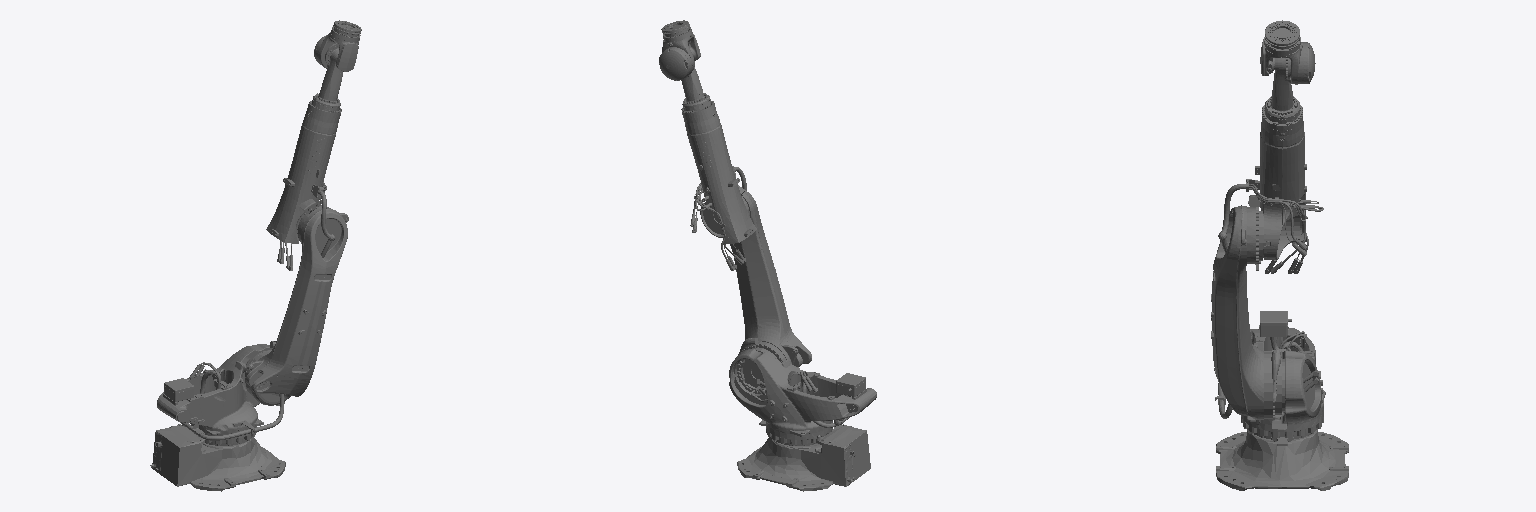
The robot description file, URDF, robot "kuka_kr_250":
<?xml version="1.0" ?>
<!-- =================================================================================== -->
<!-- |    This document was autogenerated by xacro from indy7.xacro                    | -->
<!-- |    EDITING THIS FILE BY HAND IS NOT RECOMMENDED                                 | -->
<!-- =================================================================================== -->
<robot name="kuka_kr_250" xmlns:xacro="http://ros.org/wiki/xacro">
  <material name="metal_grey"> <color rgba="0.5 0.5 0.5 1"/> </material>
  <link name="world"/>
  <link name="base_link">
    <visual>
      <origin rpy="0 0 0" xyz="0 0 0"/>
      <geometry>
        <mesh filename="meshes/stl/kuka_kr_250_base_link.stl"/>
      </geometry>
      <material name="metal_grey"/>
    </visual>
    <collision>
      <origin rpy="0 0 0" xyz="0 0 0"/>
      <geometry>
        <mesh filename="meshes/stl/kuka_kr_250_base_link.stl"/>
      </geometry>
    </collision>
    <inertial>
      <origin rpy="0 0 0" xyz="-0.115424 0.000323562 0.115133"/>
      <mass value="257.693"/>
      <inertia ixx="5.9791" iyy="13.1238" izz="16.0208" iyz="-0.00780437" ixz="1.37877" ixy="0.0327832"/>
    </inertial>
  </link>
  <link name="link1">
    <visual>
      <origin rpy="0 0 0" xyz="0 0 0"/>
      <geometry>
        <mesh filename="meshes/stl/kuka_kr_250_link1.stl"/>
      </geometry>
      <material name="metal_grey"/>
    </visual>
    <collision>
      <origin rpy="0 0 0" xyz="0 0 0"/>
      <geometry>
        <mesh filename="meshes/stl/kuka_kr_250_link1.stl"/>
      </geometry>
    </collision>
    <inertial>
      <origin rpy="0 0 0" xyz="-0.0299196 -0.0044684 -0.216798"/>
      <mass value="254.573"/>
      <inertia ixx="8.21089" iyy="15.5349" izz="13.9837" iyz="-0.23054" ixz=" 0.790915" ixy="1.29514"/>
    </inertial>
  </link>
  <link name="link2">
    <visual>
      <origin rpy="0 0 0" xyz="0 0 0"/>
      <geometry>
        <mesh filename="meshes/stl/kuka_kr_250_link2.stl"/>
      </geometry>
      <material name="metal_grey"/>
    </visual>
    <collision>
      <origin rpy="0 0 0" xyz="0 0 0"/>
      <geometry>
        <mesh filename="meshes/stl/kuka_kr_250_link2.stl"/>
      </geometry>
    </collision>
    <inertial>
      <origin rpy="0 0 0" xyz="0.449283 0.000936735 -0.222893"/>
      <mass value="331.528"/>
      <inertia ixx="5.60972" iyy="65.6326" izz="64.9414" iyz="-0.00657388" ixz=" 4.37003" ixy="0.180956"/>
    </inertial>
  </link>
  <link name="link3">
    <visual>
      <origin rpy="0 0 0" xyz="0 0 0"/>
      <geometry>
        <mesh filename="meshes/stl/kuka_kr_250_link3.stl"/>
      </geometry>
      <material name="metal_grey"/>
    </visual>
    <collision>
      <origin rpy="0 0 0" xyz="0 0 0"/>
      <geometry>
        <mesh filename="meshes/stl/kuka_kr_250_link3.stl"/>
      </geometry>
    </collision>
    <inertial>
      <origin rpy="0 0 0" xyz="0.375107 -0.113505 0.0869682"/>
      <mass value="172.325"/>
      <inertia ixx="1.66847" iyy="14.9789" izz="14.9091" iyz="0.0995061" ixz="-0.374194" ixy="0.0156184"/>
    </inertial>
  </link>
  <link name="link4">
    <visual>
      <origin rpy="0 0 0" xyz="0 0 0"/>
      <geometry>
        <mesh filename="meshes/stl/kuka_kr_250_link4.stl"/>
      </geometry>
      <material name="metal_grey"/>
    </visual>
    <collision>
      <origin rpy="0 0 0" xyz="0 0 0"/>
      <geometry>
        <mesh filename="meshes/stl/kuka_kr_250_link4.stl"/>
      </geometry>
    </collision>
    <inertial>
      <origin rpy="0 0 0" xyz="0.00449251 4.41483e-06 -0.174621"/>
      <mass value="18.8575"/>
      <inertia ixx="0.332037" iyy="0.33071" izz="0.0462583" iyz="-8.34095e-06" ixz="0.0151001" ixy="3.83858e-06"/>
    </inertial>
  </link>
  <link name="link5">
    <visual>
      <origin rpy="0 0 0" xyz="0 0 0"/>
      <geometry>
        <mesh filename="meshes/stl/kuka_kr_250_link5.stl"/>
      </geometry>
      <material name="metal_grey"/>
    </visual>
    <collision>
      <origin rpy="0 0 0" xyz="0 0 0"/>
      <geometry>
        <mesh filename="meshes/stl/kuka_kr_250_link5.stl"/>
      </geometry>
    </collision>
    <inertial>
      <origin rpy="0 0 0" xyz="0.0576934 2.24433e-05 -0.0126577"/>
      <mass value="37.375"/>
      <inertia ixx="0.367292" iyy="0.533284" izz="0.378389" iyz="-4.25692e-05" ixz="0.10984" ixy="-0.000112698"/>
    </inertial>
  </link>
  <link name="link6">
    <visual>
      <origin rpy="0 0 0" xyz="0 0 0"/>
      <geometry>
        <mesh filename="meshes/stl/kuka_kr_250_link6.stl"/>
      </geometry>
      <material name="metal_grey"/>
    </visual>
    <collision>
      <origin rpy="0 0 0" xyz="0 0 0"/>
      <geometry>
        <mesh filename="meshes/stl/kuka_kr_250_link6.stl"/>
      </geometry>
    </collision>
    <inertial>
      <origin rpy="0 0 0" xyz="4.57333e-05 -2.18023e-05 -0.0117932"/>
      <mass value="3.13638"/>
      <inertia ixx="0.00809075" iyy="0.00810687" izz="0.0156025" iyz="2.33201e-07" ixz="2.37544e-07" ixy="2.74403e-07"/>
    </inertial>
  </link>
  <link name="tcp">
    <collision>
      <geometry>
        <box size="0.01 0.01 0.01"/>
      </geometry>
      <origin rpy="0 0 0" xyz="0 0 0"/>
    </collision>
    <inertial>
      <mass value="0.001"/>
      <origin rpy="0 0 0" xyz="0.0 0.0 0.0"/>
      <inertia ixx="0.0" ixy="0.0" ixz="0.0" iyy="0.0" iyz="0.0" izz="0.0"/>
    </inertial>
  </link>


  <joint name="world_joint" type="fixed">
    <parent link="world"/>
    <child link="base_link"/>
    <origin rpy="0.0 0.0 0.0" xyz="0 0 0"/>
  </joint>
  <joint name="joint1" type="revolute">
    <parent link="base_link"/>     
    <child link="link1"/>  
    <origin rpy="3.14159265358 0.0 0.0" xyz="0.0 0.0 0.2356"/>
    <axis xyz="0 0 1"/>
    <limit effort=" 1000" lower="-3.2289" upper="3.2289" velocity="10"/>
  </joint>
  <joint name="joint2" type="revolute">
    <parent link="link1"/>  
    <child link="link2"/>  
    <origin rpy="1.57079632679 0.0 0.0" xyz="0.33 0.0 -0.4094"/>
    <axis xyz="0 0 1"/>
    <limit effort=" 1000" lower="-2.4435" upper="-0.0873" velocity="10"/>
  </joint>
  <joint name="joint3" type="revolute">
    <parent link="link2"/> 
    <child link="link3"/>    
    <origin rpy="0.0 0.0 0.0" xyz="1.15 0.0 -0.095"/>
    <axis xyz="0 0 1"/>
    <limit effort=" 1000" lower="-2.0944" upper="2.9322" velocity="10"/>
  </joint>
  <joint name="joint4" type="revolute">
    <parent link="link3"/>  
    <child link="link4"/>   
    <origin rpy="0.0 -1.57079632679 0.0" xyz="0.8785 -0.115 0.095"/>
    <axis xyz="0 0 1"/>
    <limit effort=" 1000" lower="-6.1087" upper="6.1087" velocity="10"/>
  </joint>
  <joint name="joint5" type="revolute">
    <parent link="link4"/>  
    <child link="link5"/>   
    <origin rpy="0.0 1.57079632679 0.0" xyz="0.059 0.0 -0.3415"/>
    <axis xyz="0 0 1"/>
    <limit effort=" 1000" lower="-2.1380" upper="2.1380" velocity="10"/>
  </joint>
  <joint name="joint6" type="revolute">
    <parent link="link5"/>  
    <child link="link6"/>    
    <origin rpy="0.0 -1.57079632679 0.0" xyz="0.21 0.0 -0.059"/>
    <axis xyz="0 0 1"/>
    <limit effort=" 1000" lower="-6.1087" upper="6.1087" velocity="10"/>
  </joint>
  <joint name="tcp_joint" type="fixed">
    <parent link="link6"/>
    <child link="tcp"/>
    <origin rpy="3.1415926536 0.0 1.5707963268" xyz="0.0 0.0 -0.03"/>
  </joint> 

  
</robot>

--- Render facts (derived) ---
3 views of the same robot in one strip: view 1: azimuth 30°, elevation 25°; view 2: azimuth 150°, elevation 25°; view 3: azimuth 270°, elevation 25° (orthographic).
Robot: kuka_kr_250 — 9 links, 8 joints (6 revolute, 2 fixed); root link world; default pose: joints at zero except 1 at the middle of their limits (joint2 = -1.27).
Visible links, largest first — view 1: link2, link1, base_link, link3, link5, link4; view 2: link1, link3, link2, base_link, link5, link4; view 3: link2, link3, base_link, link1, link5, link4, link6.
Boxes of the visible links, <box> form: link2: <box>245,206,348,405</box>; link1: <box>157,344,283,445</box>; base_link: <box>150,424,285,491</box>; link3: <box>266,100,341,270</box>; link5: <box>314,27,360,71</box>; link4: <box>313,43,342,107</box>; link1: <box>729,349,876,445</box>; link3: <box>681,99,756,270</box>; link2: <box>730,189,811,366</box>; base_link: <box>737,424,870,491</box>; link5: <box>659,27,700,80</box>; link4: <box>681,67,709,107</box>; link2: <box>1211,205,1284,424</box>; link3: <box>1218,105,1323,273</box>; base_link: <box>1216,429,1348,490</box>; link1: <box>1215,311,1325,445</box>; link5: <box>1260,37,1315,84</box>; link4: <box>1265,58,1299,119</box>; link6: <box>1265,20,1299,47</box>.
Bounding box of the posed robot: 1.62 × 0.7816 × 3.2 m (x, y, z).
Meshes: 7 distinct files referenced, 7 mesh visuals loaded (7 binary STL).
